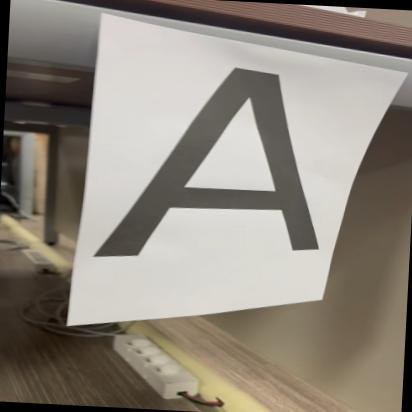seat: (91, 52, 334, 272)
